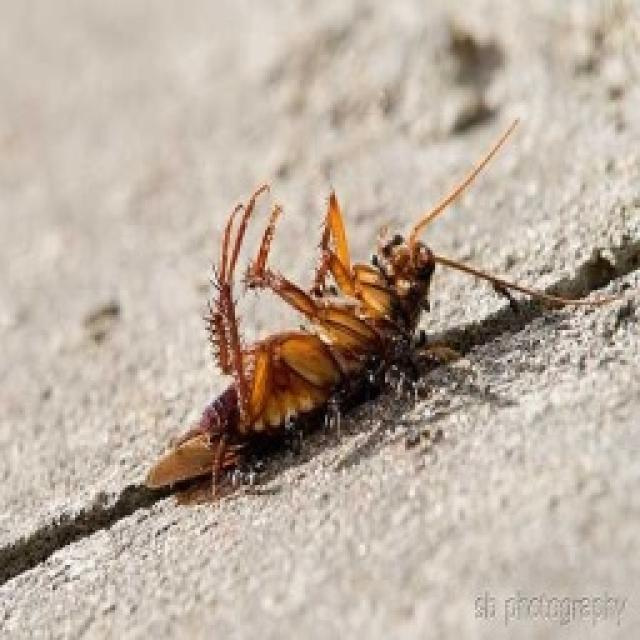cockroach: (81, 183, 516, 522)
